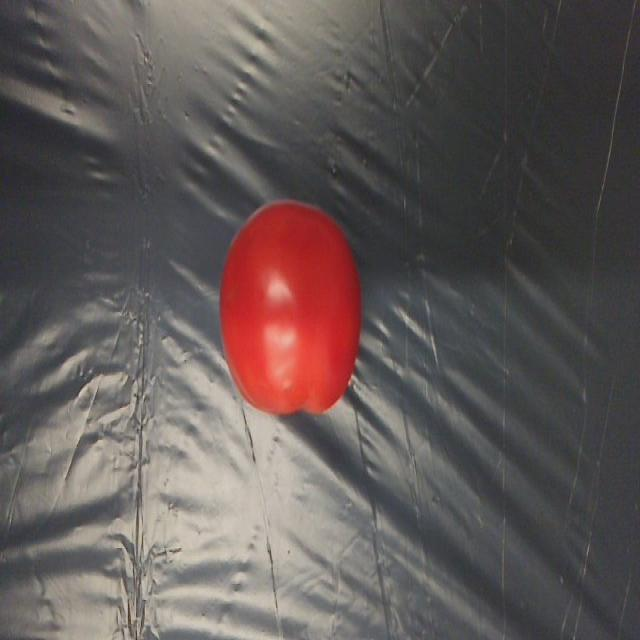kirmizi: (202, 202, 384, 419)
